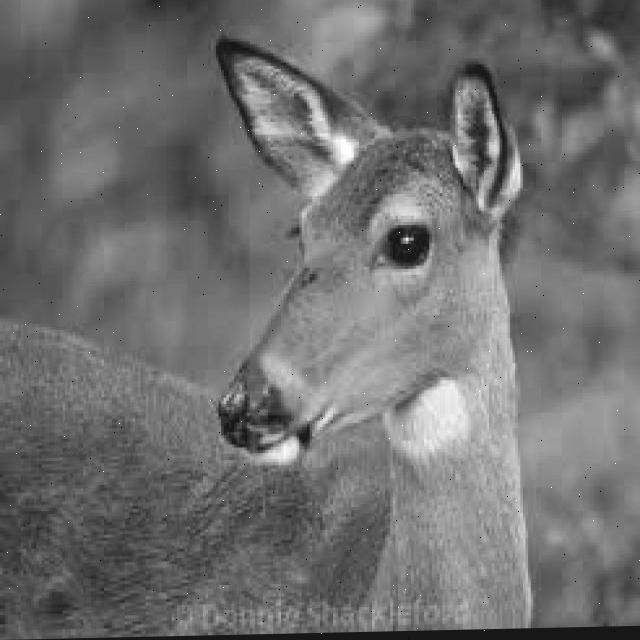Deer: (3, 9, 544, 635)
